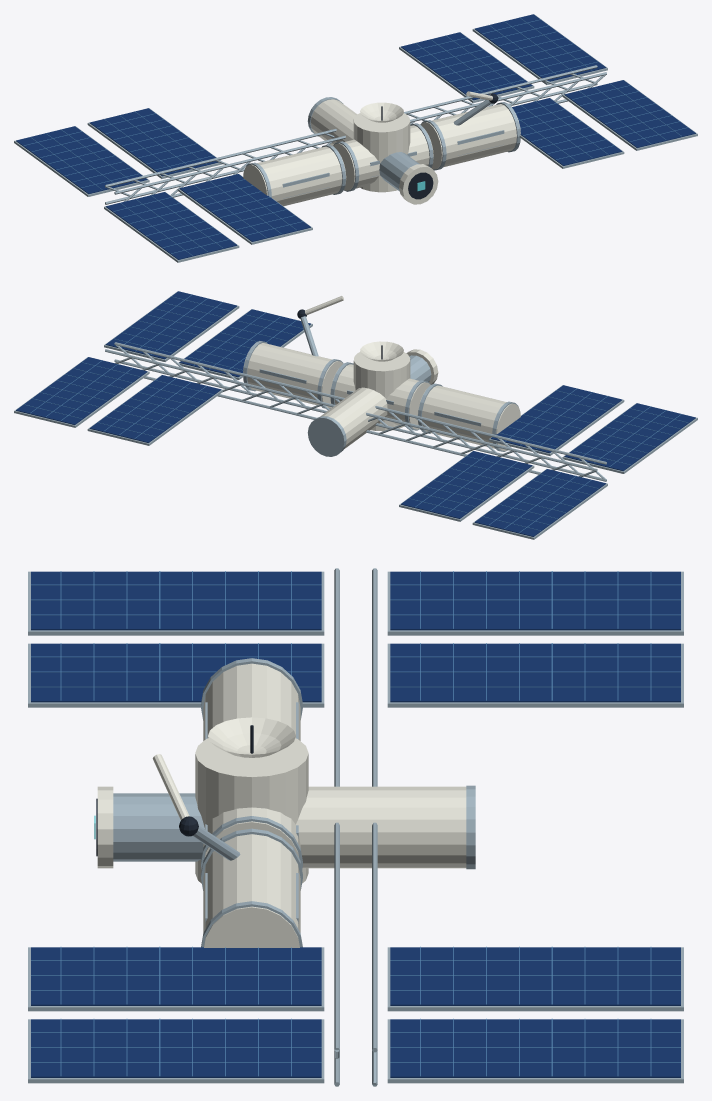
Rendered from 05_OrbitalResearchStation.obj.
The picture shows the model from 3 angles, top to bottom: view 1: azimuth 30°, elevation 25°; view 2: azimuth 150°, elevation 25°; view 3: azimuth 270°, elevation 25°; orthographic projection. The views are drawn at different scales.
Visible parts, largest first — view 1: Array__1_1_1_2__cells, Array__1_1_4_5__cells, Array__1_0_4_5__cells, Array__1_0_1_2__cells, Habitat_0, Habitat_2, Node, Truss_rail__0_3_1_95_, Habitat_1, Truss_rail__0_3_1_35_, Rear_lab, Array__1_1_1_2__frame (+10 smaller); view 2: Array__1_0_4_5__cells, Array__1_1_4_5__cells, Array__1_1_1_2__cells, Array__1_0_1_2__cells, Habitat_0, Habitat_2, Truss_rail__0_3_1_35_, Truss_rail__0_3_1_95_, Node, Rear_lab, Habitat_1, Rear_cap (+9 smaller); view 3: Array__1_0_4_5__cells, Array__1_1_4_5__cells, Array__1_1_1_2__cells, Array__1_0_1_2__cells, Rear_lab, Habitat_2, Node, Docking_tunnel, Habitat_0, Array__1_0_4_5__frame, Array__1_1_4_5__frame, Array__1_1_1_2__frame (+19 smaller).
Boxes of the visible parts, x1,y1,x2,y2 form: Array__1_1_1_2__cells: (105,80,695,259); Array__1_1_4_5__cells: (16,14,606,194); Array__1_0_4_5__cells: (89,32,532,176); Array__1_0_1_2__cells: (179,98,622,241); Habitat_0: (243,146,346,206); Habitat_2: (421,104,520,169); Node: (353,113,410,192); Truss_rail__0_3_1_95_: (105,65,597,204); Habitat_1: (333,125,433,190); Truss_rail__0_3_1_35_: (114,72,606,197); Rear_lab: (310,99,357,145); Array__1_1_1_2__frame: (104,80,697,262); Array__1_0_4_5__cells: (89,375,532,518); Array__1_1_4_5__cells: (16,357,606,536); Array__1_1_1_2__cells: (105,291,695,471); Array__1_0_1_2__cells: (179,309,622,453); Habitat_0: (417,385,520,450); Habitat_2: (243,343,342,408); Truss_rail__0_3_1_35_: (114,342,606,481); Truss_rail__0_3_1_95_: (105,349,597,474); Node: (353,352,410,431); Rear_lab: (320,387,387,448); Habitat_1: (330,364,430,429); Rear_cap: (307,416,346,456); Array__1_0_4_5__cells: (390,643,680,1005); Array__1_1_4_5__cells: (390,571,680,1077); Array__1_1_1_2__cells: (31,571,321,1077); Array__1_0_1_2__cells: (31,643,321,1005); Rear_lab: (296,786,466,868); Habitat_2: (203,834,300,947); Node: (195,738,308,883); Docking_tunnel: (113,793,204,861); Habitat_0: (203,663,300,740); Array__1_0_4_5__frame: (387,643,683,1011); Array__1_1_4_5__frame: (387,571,683,1083); Array__1_1_1_2__frame: (28,571,324,1083).
Bounding box in the file's own units: 19.05 × 3.18 × 10.4.
